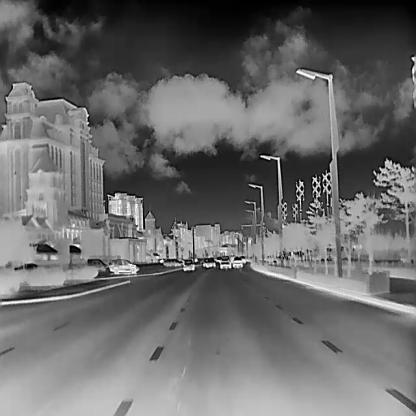car: (108, 257, 138, 273), (86, 256, 107, 271), (160, 257, 184, 265), (219, 254, 231, 268), (231, 254, 242, 268), (182, 258, 194, 270), (202, 256, 215, 266), (239, 254, 246, 262), (214, 255, 220, 262)
